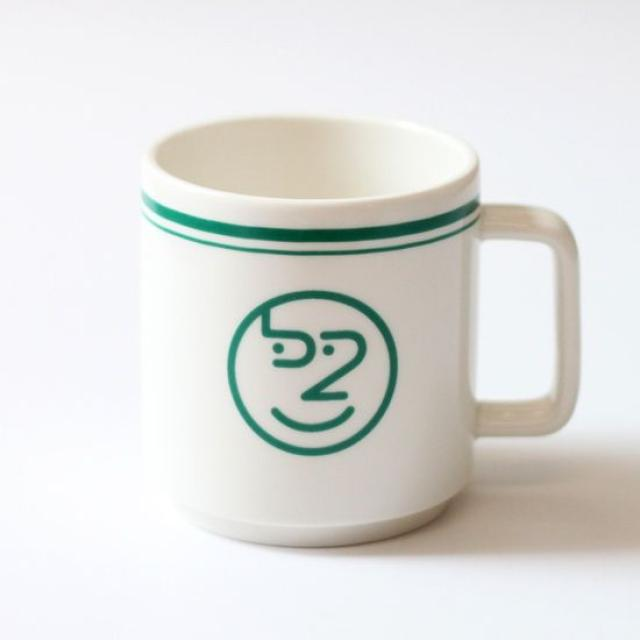glass cup: (139, 112, 582, 549)
